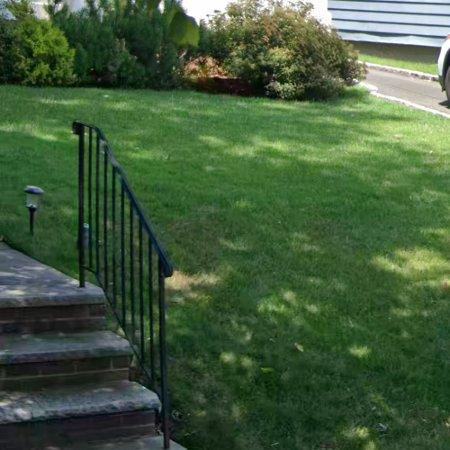stairs: (0, 243, 163, 450)
